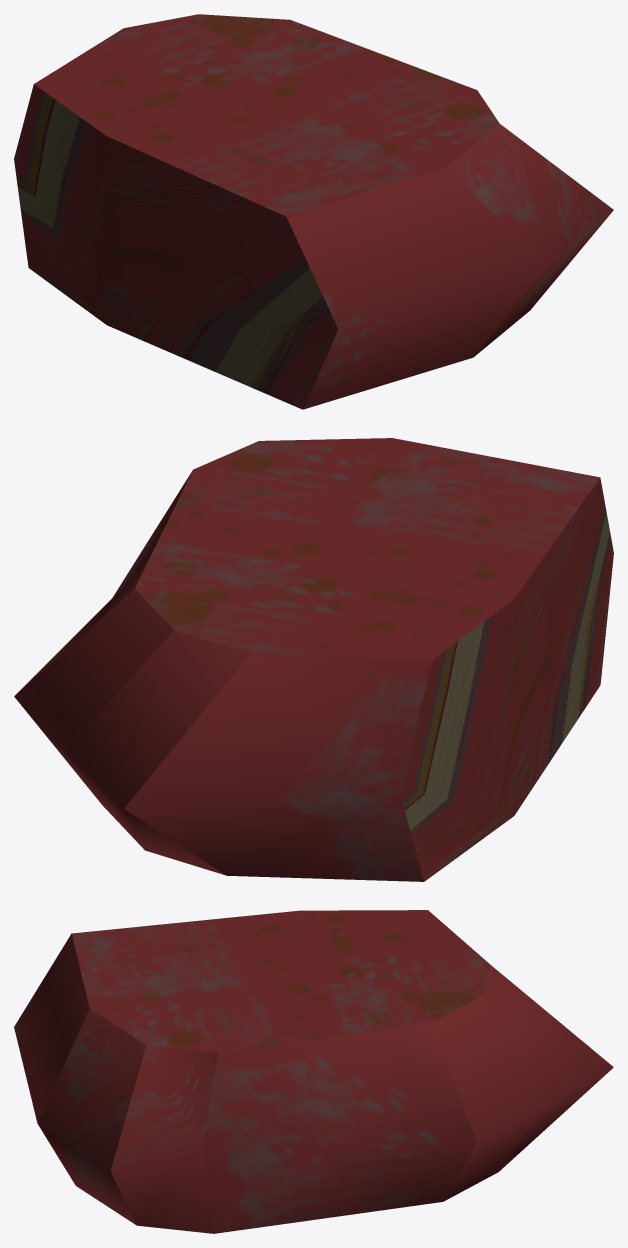
The model's file is ishi_03_04_1.fbx.
3 renders of one model, top to bottom at view 1: azimuth 30°, elevation 25°; view 2: azimuth 150°, elevation 25°; view 3: azimuth 270°, elevation 25°, orthographic. The views are drawn at different scales.
Visible parts, largest first — view 1: polySurface39; view 2: polySurface39; view 3: polySurface39.
Part boxes in pixels (box(x1,y1,x2,y2)): polySurface39: box(14, 14, 613, 409); polySurface39: box(14, 438, 613, 881); polySurface39: box(14, 910, 613, 1233).
Bounding box in the file's own units: 11.46 × 5.14 × 16.48.
1 material, 1 textured.
